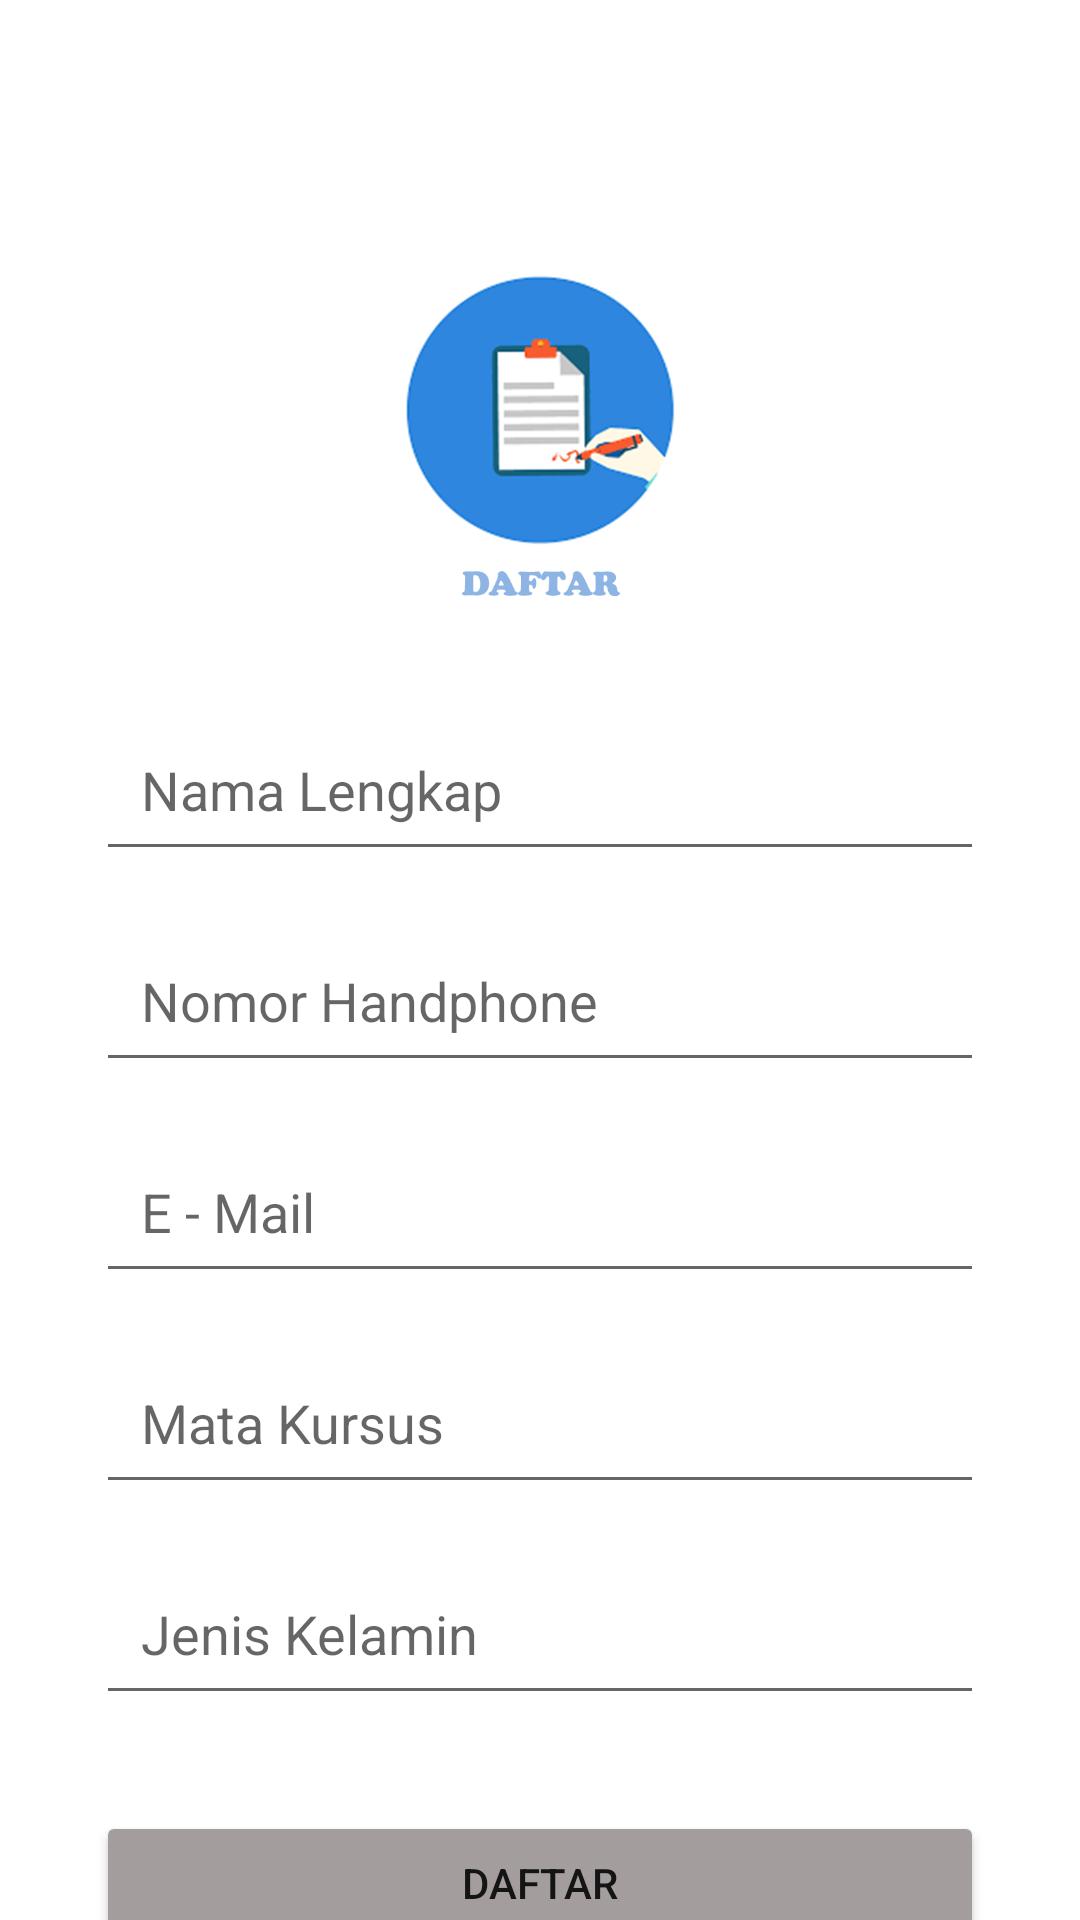

Screen size 1080 × 1920. Icon name, then its center in pixels as (x=x, y=y):
daftar kursus: (x=540, y=436)
